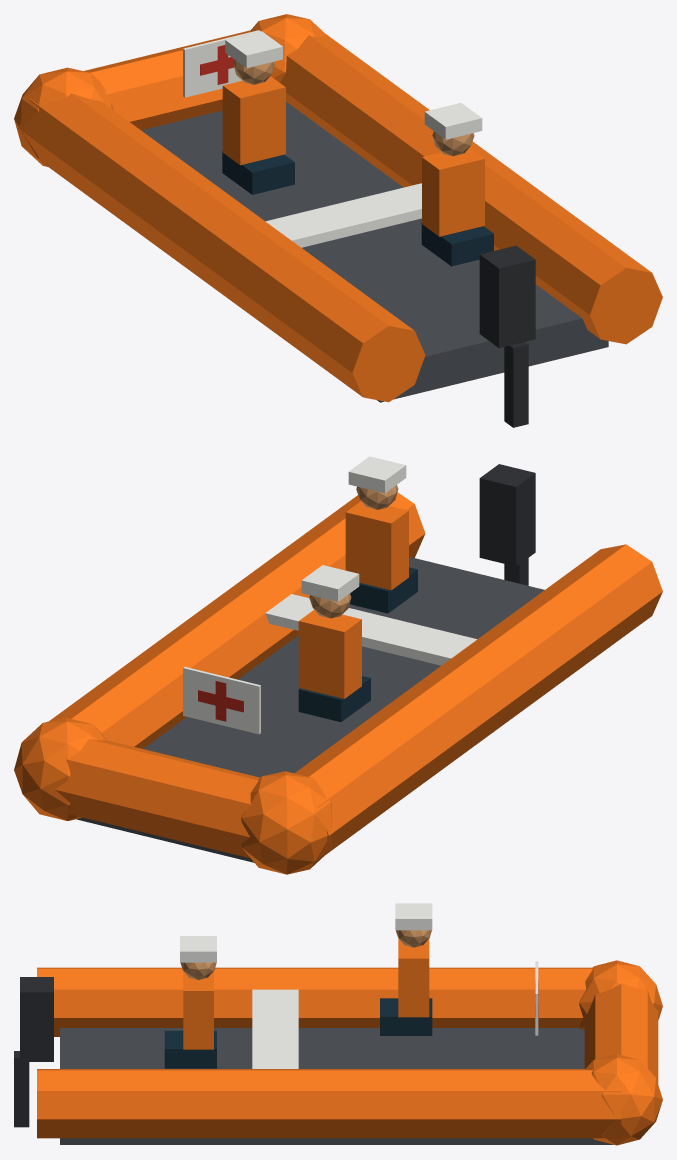
The model's file is boat.fbx.
3 views of the same model, one above another, from view 1: azimuth 30°, elevation 25°; view 2: azimuth 150°, elevation 25°; view 3: azimuth 270°, elevation 25° (orthographic). The views are drawn at different scales.
Visible parts, largest first — view 1: M__boat; view 2: M__boat; view 3: M__boat.
Boxes of the visible parts, x1,y1,x2,y2 form: M__boat: (14,14,662,427); M__boat: (14,456,662,874); M__boat: (14,903,662,1145).
Bounding box in the file's own units: 2.04 × 1.41 × 4.22.
